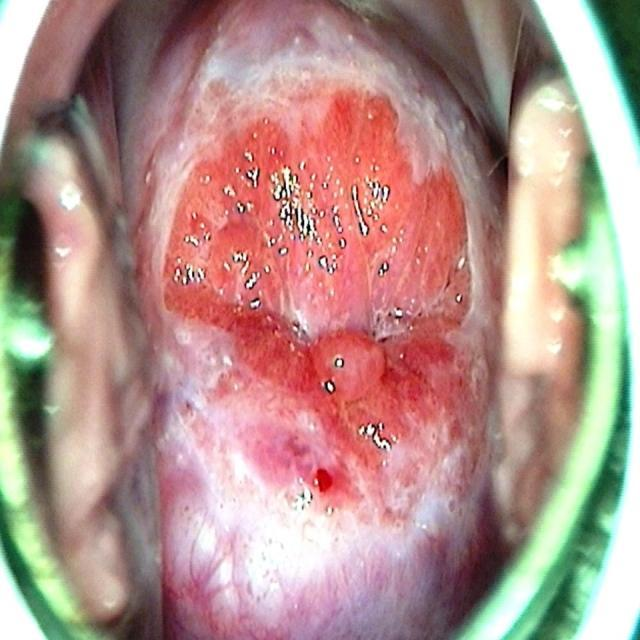cervical_lesion: (123, 21, 507, 640)
